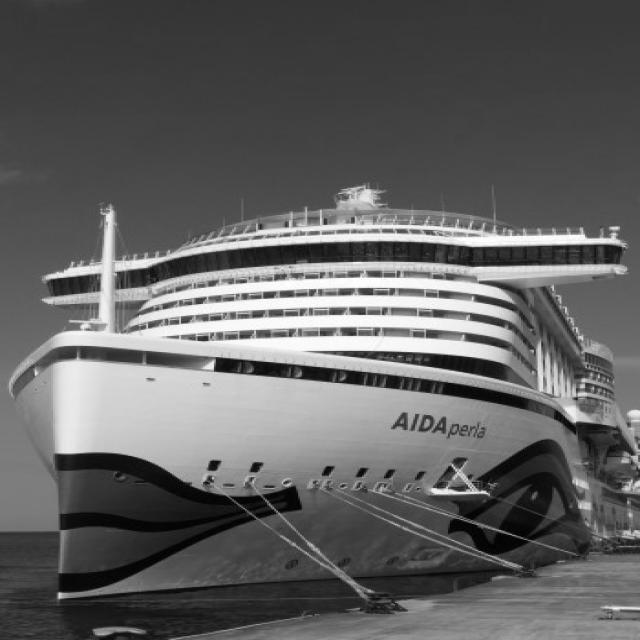cruises: (1, 178, 640, 605)
